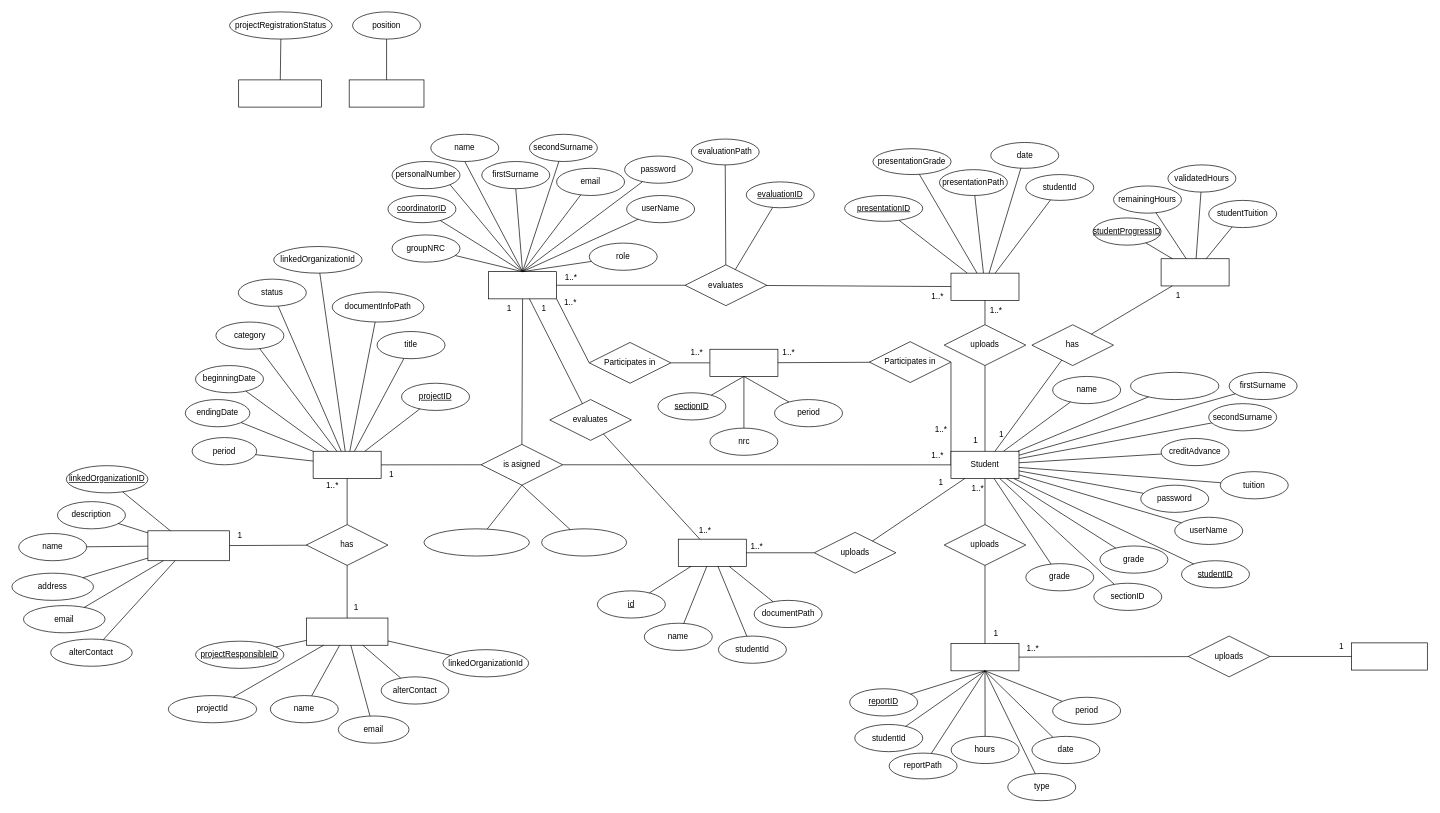
Image size: 1440x813. Some labels were removed from this diagram. Each missing label, with the centre of its shape:
"Academic" goes at point (522, 285).
"asignationDocumentPath" goes at point (476, 542).
"asignationID" goes at point (584, 542).
"autoevaluationGrade" goes at point (1174, 386).
"LInkedOrganization" goes at point (188, 545).
"PositionsCatalog" goes at point (386, 93).
"Presentation" goes at point (984, 286).
"Project" goes at point (346, 464).
"ProjectRequest" goes at point (712, 552).
"ProjectResponsible" goes at point (347, 631).
"Report" goes at point (984, 657).
"ReportTypeCatalog" goes at point (1389, 656).
"Section" goes at point (743, 362).
"StudentProgress" goes at point (1194, 272).
"SystemConfiguration" goes at point (280, 93).
